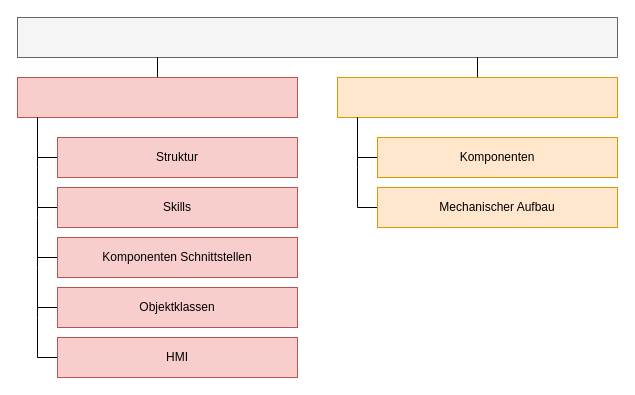
This 635x395 diagram has some shape labels left out. The shapes that lost their labels are listed below. From the top down, each one's centre as x and y in pixels, then its label:
At pixel 317 37: "Gesamtsystem".
At pixel 157 97: "Software".
At pixel 477 97: "Hardware".
